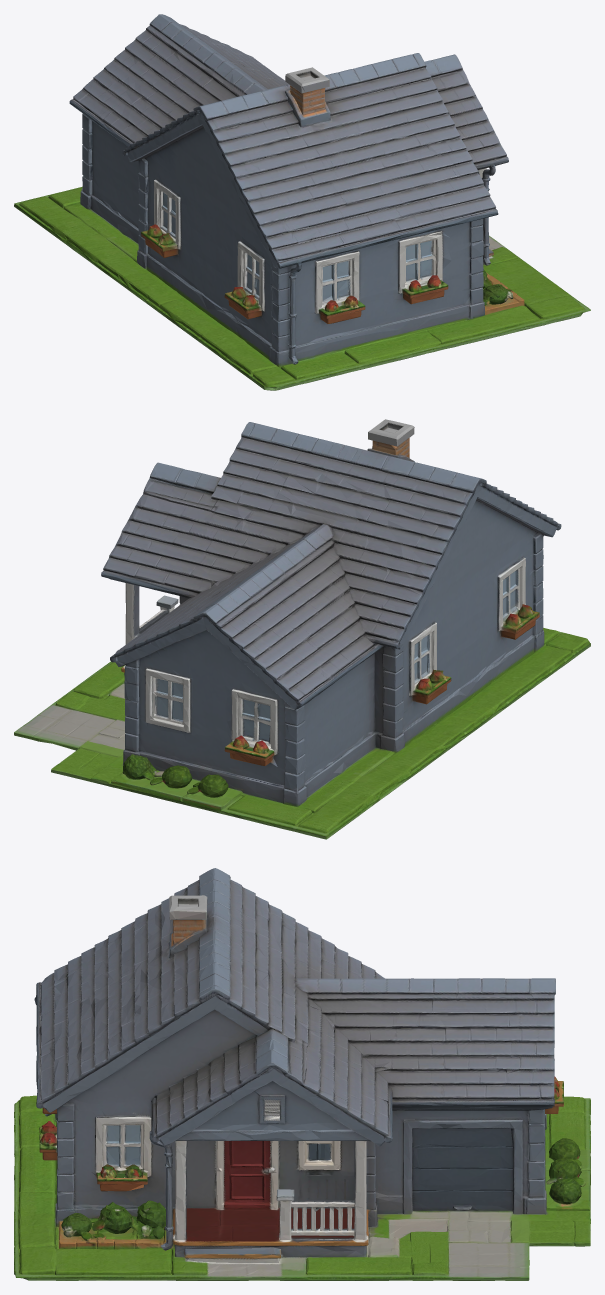
Rendered from house_1storyD_grey.glb.
3 renders of one model, top to bottom at view 1: azimuth 30°, elevation 25°; view 2: azimuth 150°, elevation 25°; view 3: azimuth 270°, elevation 25°, orthographic. The views are drawn at different scales.
Parts seen in each view (by area): view 1: tripo_node_709bf4ff-6f51-4b06-b592-21dc0a0c8a9f; view 2: tripo_node_709bf4ff-6f51-4b06-b592-21dc0a0c8a9f; view 3: tripo_node_709bf4ff-6f51-4b06-b592-21dc0a0c8a9f.
Part boxes in pixels (left/top/right/bottom): tripo_node_709bf4ff-6f51-4b06-b592-21dc0a0c8a9f: left=14, top=14, right=590, bottom=390; tripo_node_709bf4ff-6f51-4b06-b592-21dc0a0c8a9f: left=14, top=419, right=590, bottom=839; tripo_node_709bf4ff-6f51-4b06-b592-21dc0a0c8a9f: left=14, top=868, right=590, bottom=1280.
Bounding box in the file's own units: 0.7356 × 0.5052 × 1.
1 material, 1 textured.
